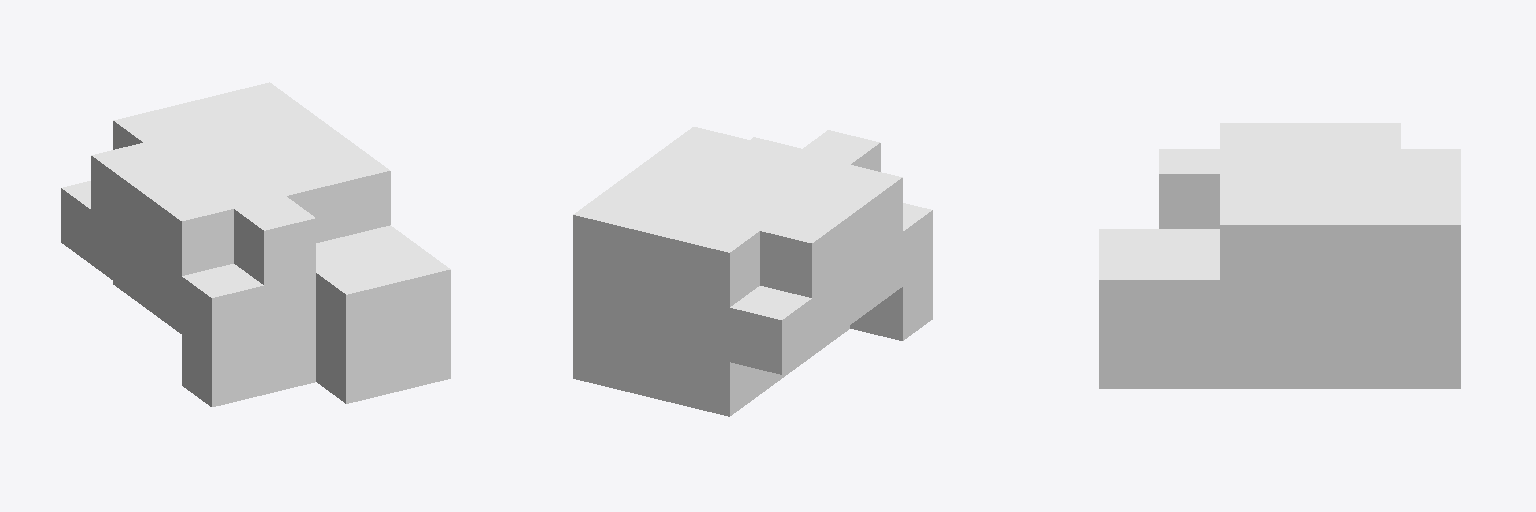
File: playerCar1TopRight.obj
3 views of the same model, side by side, from view 1: azimuth 30°, elevation 25°; view 2: azimuth 150°, elevation 25°; view 3: azimuth 270°, elevation 25° (orthographic).
Visible parts, largest first — view 1: object 1; view 2: object 1; view 3: object 1.
Boxes of the visible parts, <box> form: object 1: <box>61,82,450,406</box>; object 1: <box>573,127,932,416</box>; object 1: <box>1099,123,1460,388</box>.
Bounding box in the file's own units: 0.4 × 0.3 × 0.6.